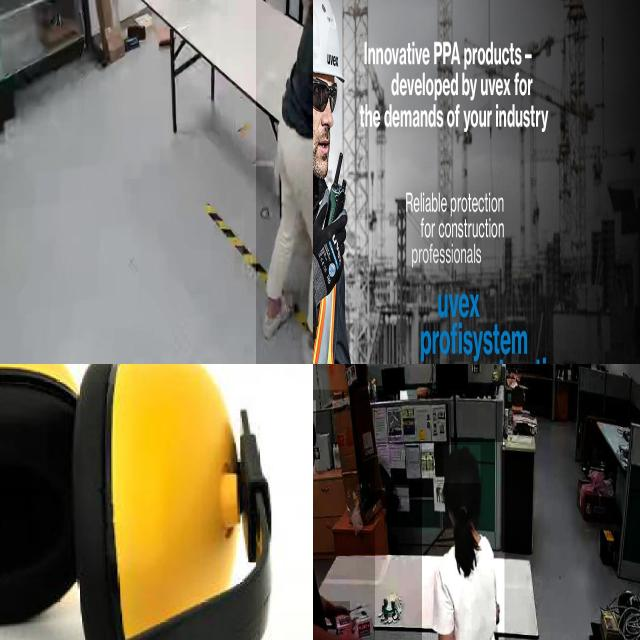Ear-protection: (0, 364, 267, 640)
glasses: (313, 72, 339, 110)
hand_glove: (313, 208, 353, 280)
hand_noglove: (337, 615, 365, 640), (326, 602, 350, 624)
head_helmet: (313, 0, 346, 88)
head_nohelmet: (443, 445, 481, 484)
person: (313, 0, 400, 364), (256, 0, 313, 364), (422, 442, 505, 640), (313, 389, 375, 640)
shoes: (259, 288, 293, 342), (299, 321, 313, 364)
